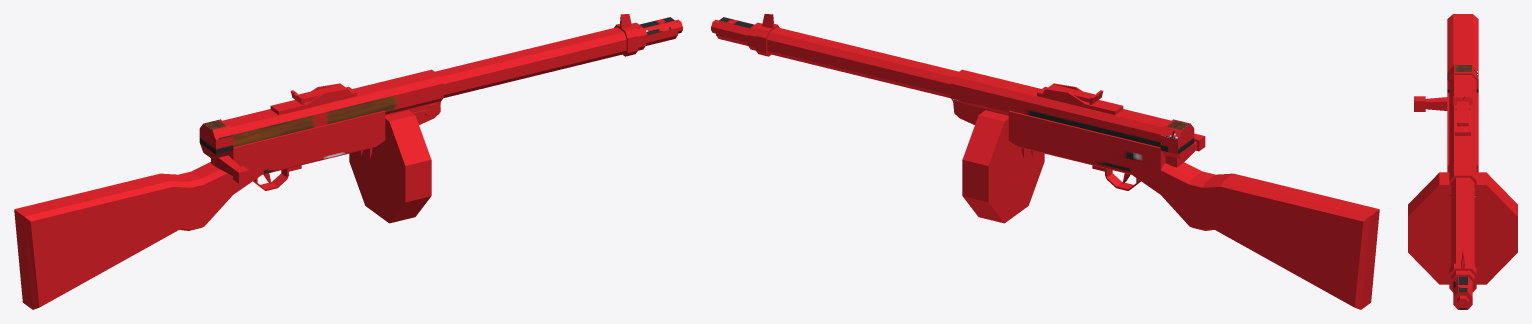
The model's file is ModelKP31.obj.
The picture shows the model from 3 angles, left to right: view 1: azimuth 30°, elevation 25°; view 2: azimuth 150°, elevation 25°; view 3: azimuth 270°, elevation 25°; orthographic projection. The views are drawn at different scales.
Parts seen in each view (by area): view 1: gunModel, ammoModel, pumpModel; view 2: gunModel, ammoModel; view 3: gunModel, ammoModel, pumpModel.
Boxes of the visible parts, bbox=[...] form: gunModel: bbox=[14, 14, 682, 309]; ammoModel: bbox=[349, 110, 431, 223]; pumpModel: bbox=[211, 155, 249, 183]; gunModel: bbox=[711, 14, 1379, 309]; ammoModel: bbox=[962, 110, 1044, 223]; gunModel: bbox=[1447, 14, 1478, 309]; ammoModel: bbox=[1408, 172, 1517, 284]; pumpModel: bbox=[1414, 96, 1447, 111].
Size of the model in its own units: 19 by 4.05 by 2.8.
